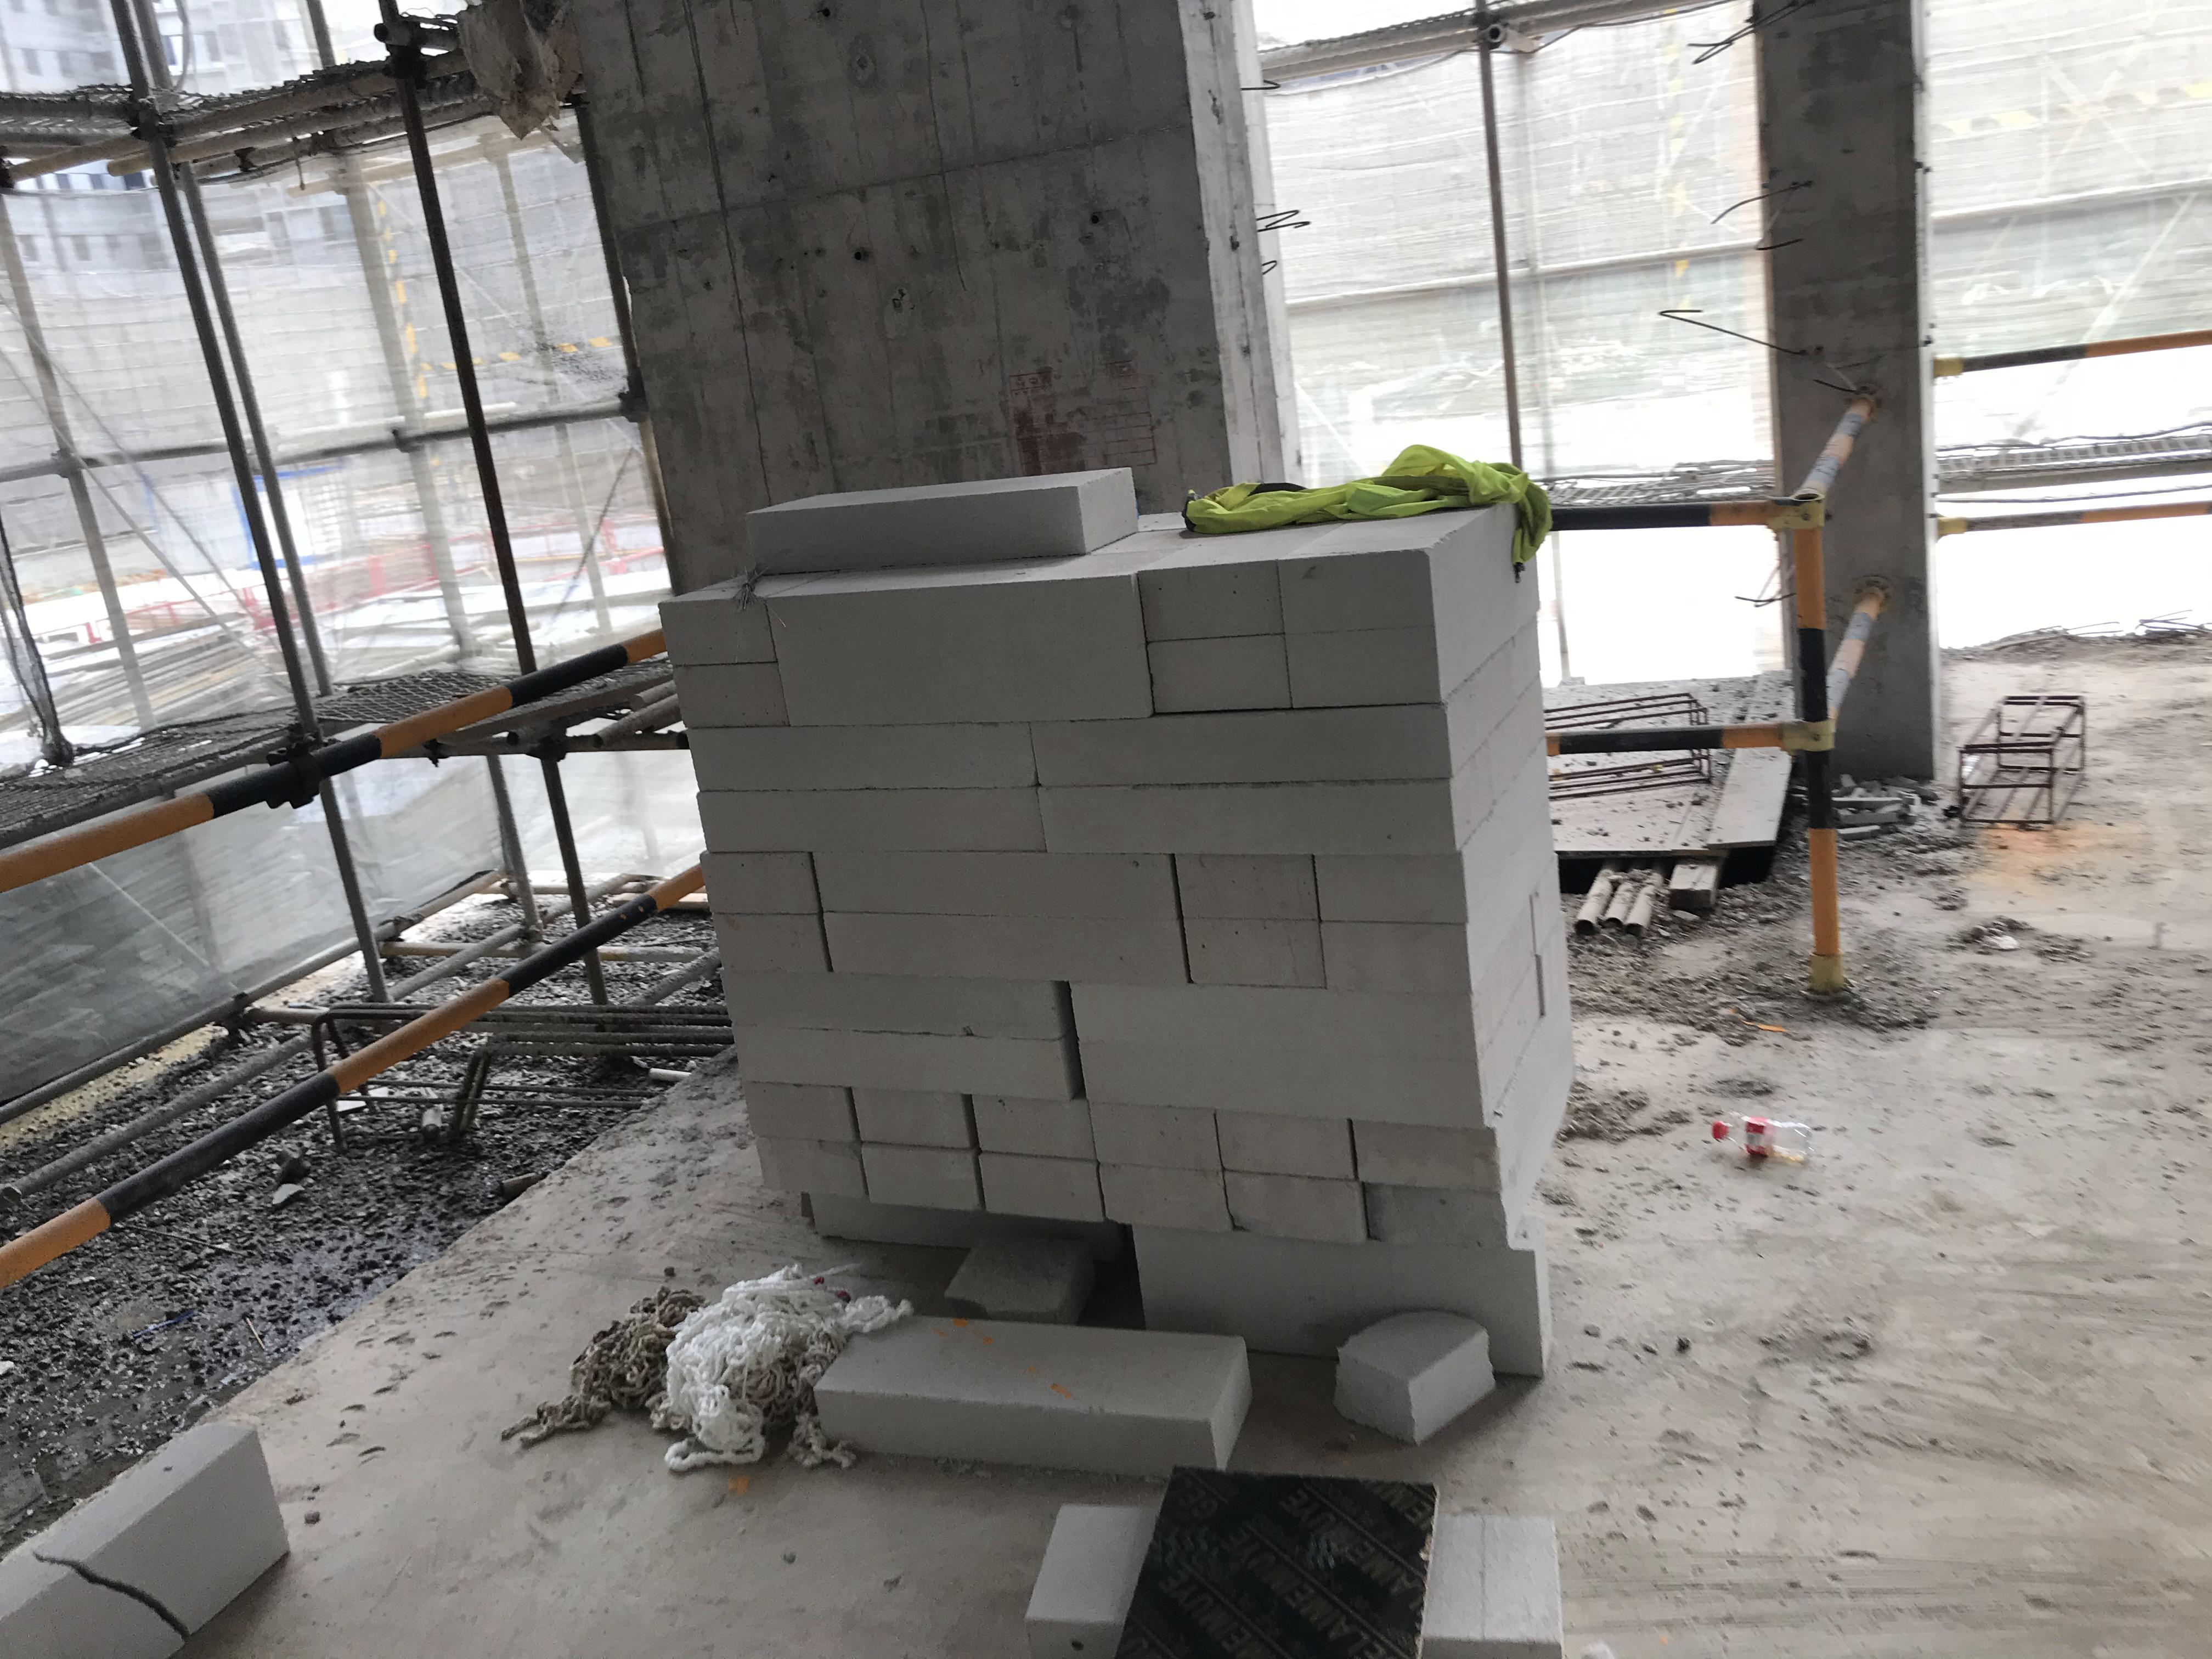brick: (662, 465, 1573, 1338)
